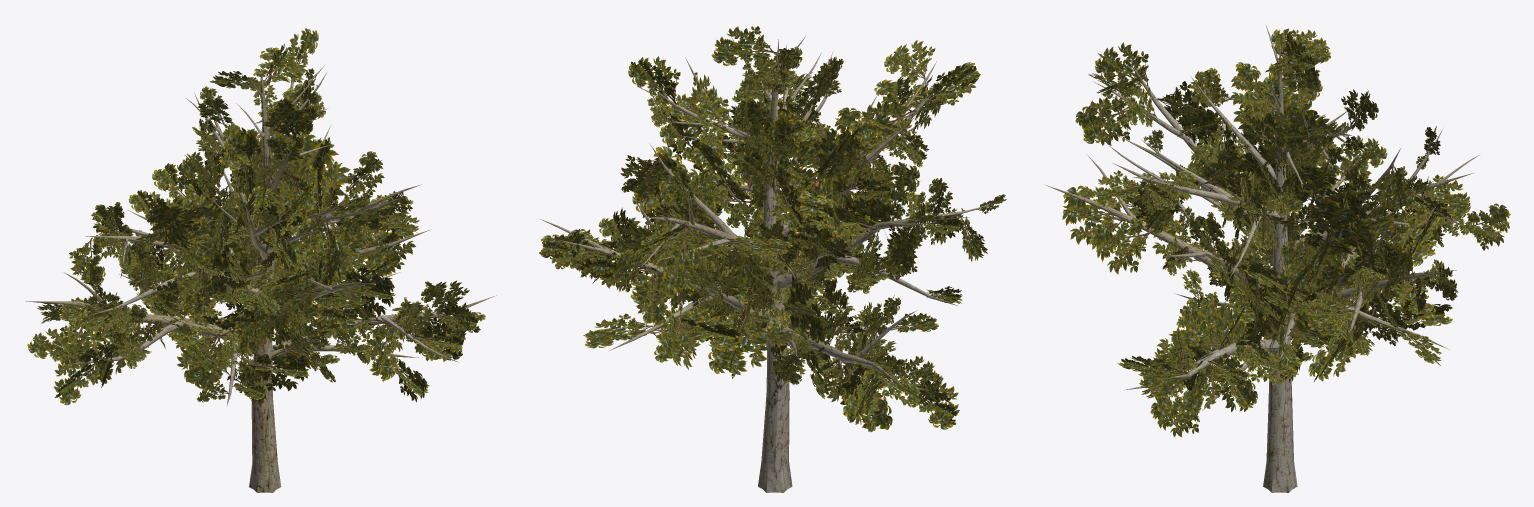
File: bigtree_model2.fbx
The picture shows the model from 3 angles, left to right: view 1: azimuth 30°, elevation 25°; view 2: azimuth 150°, elevation 25°; view 3: azimuth 270°, elevation 25°; orthographic projection. The views are drawn at different scales.
Visible parts, largest first — view 1: Bigtree.016; view 2: Bigtree.016; view 3: Bigtree.016.
Part boxes in pixels (box(x1,y1,x2,y2)): Bigtree.016: box(25, 28, 496, 492); Bigtree.016: box(539, 26, 1006, 492); Bigtree.016: box(1044, 25, 1510, 492).
Bounding box in the file's own units: 3476 × 3780 × 3464.
